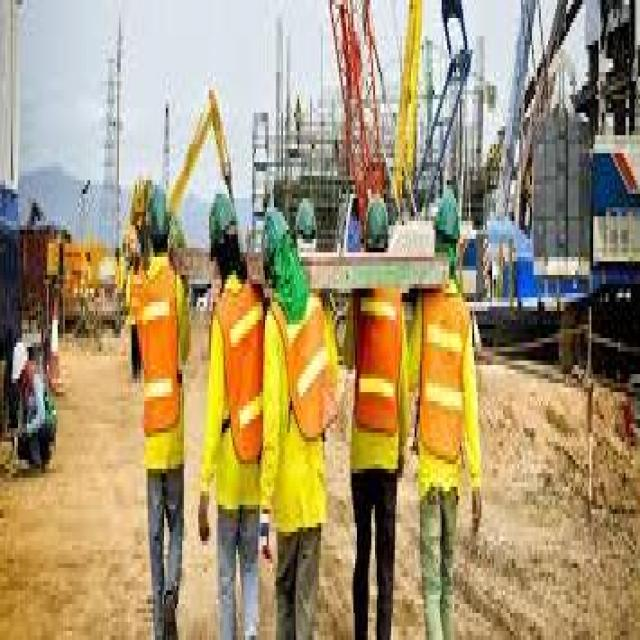Reflective-Jacket: (262, 279, 334, 541), (414, 275, 478, 505), (204, 275, 267, 500), (346, 275, 404, 482), (135, 257, 186, 482)
Safety-Helmet: (204, 176, 243, 261), (140, 172, 176, 252), (429, 180, 465, 252), (362, 185, 393, 257), (292, 185, 321, 252), (7, 329, 34, 392)
